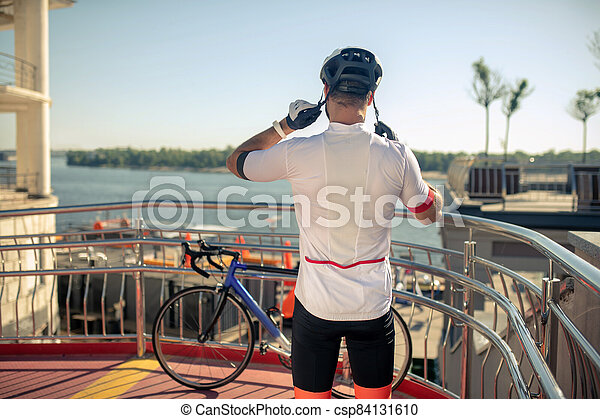helmet: (320, 46, 383, 123)
